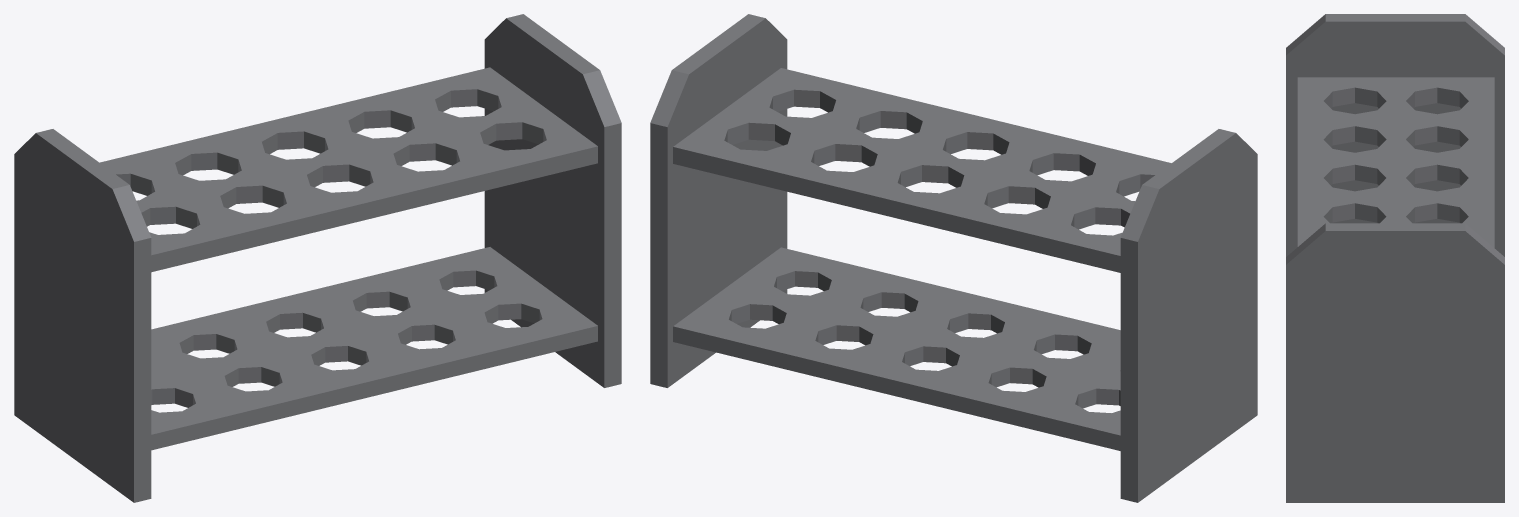
The model's file is test-tube-rack.fbx.
The picture shows the model from 3 angles, left to right: view 1: azimuth 30°, elevation 25°; view 2: azimuth 150°, elevation 25°; view 3: azimuth 270°, elevation 25°; orthographic projection. The views are drawn at different scales.
Parts seen in each view (by area): view 1: test_tube_rack; view 2: test_tube_rack; view 3: test_tube_rack.
Boxes of the visible parts, x1=… form: test_tube_rack: x1=14, y1=14, x2=621, y2=502; test_tube_rack: x1=650, y1=14, x2=1257, y2=502; test_tube_rack: x1=1286, y1=14, x2=1504, y2=502.
Bounding box in the file's own units: 39.13 × 22.85 × 16.66.
